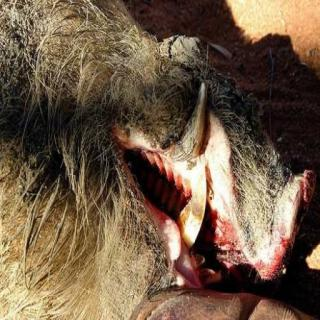Pig: (0, 0, 303, 311)
